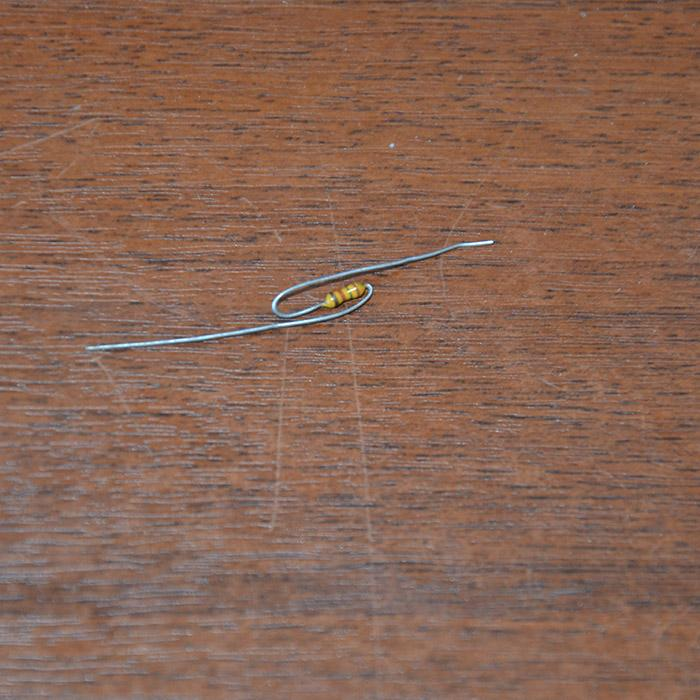resistor: (320, 281, 366, 309)
